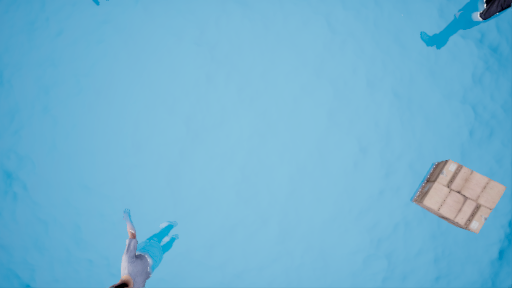person: (104, 211, 178, 288)
